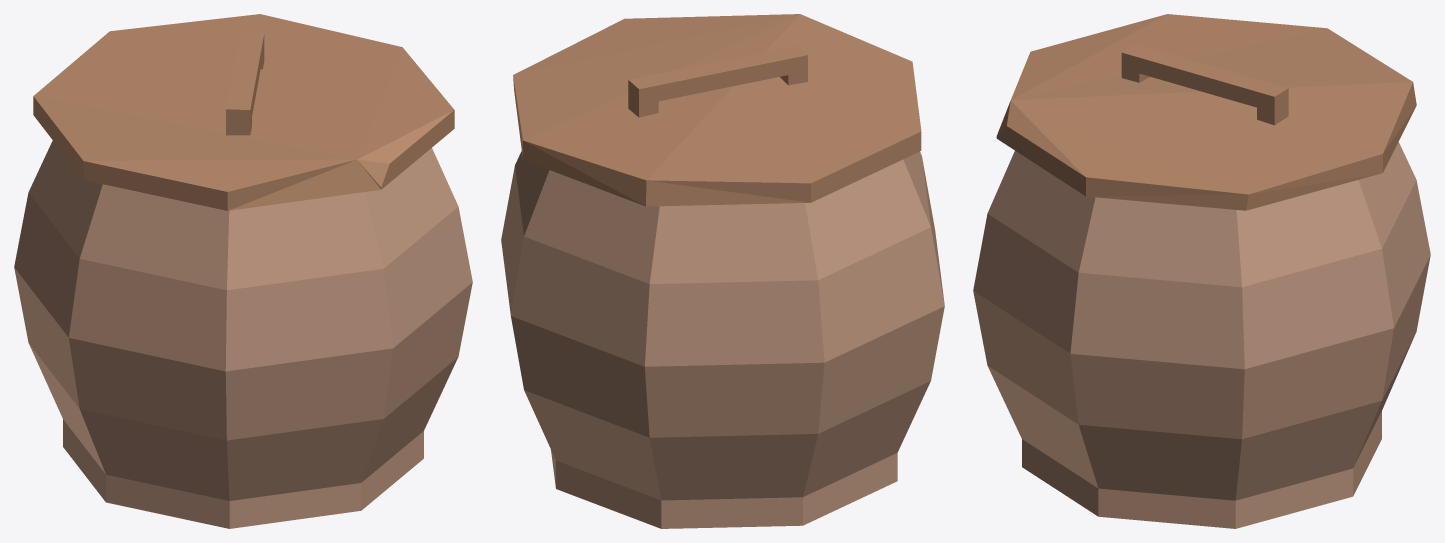
Rendered from Barrel_Closed Asia.fbx.
3 renders of one model, left to right at view 1: azimuth 30°, elevation 25°; view 2: azimuth 150°, elevation 25°; view 3: azimuth 270°, elevation 25°, orthographic. The views are drawn at different scales.
Parts seen in each view (by area): view 1: Barrel_Closed; view 2: Barrel_Closed; view 3: Barrel_Closed.
Boxes of the visible parts, box(x1,y1,x2,y2) form: Barrel_Closed: box(14, 14, 472, 528); Barrel_Closed: box(501, 14, 944, 528); Barrel_Closed: box(973, 14, 1430, 528).
Size of the model in its own units: 0.4232 by 0.3919 by 0.4232.
